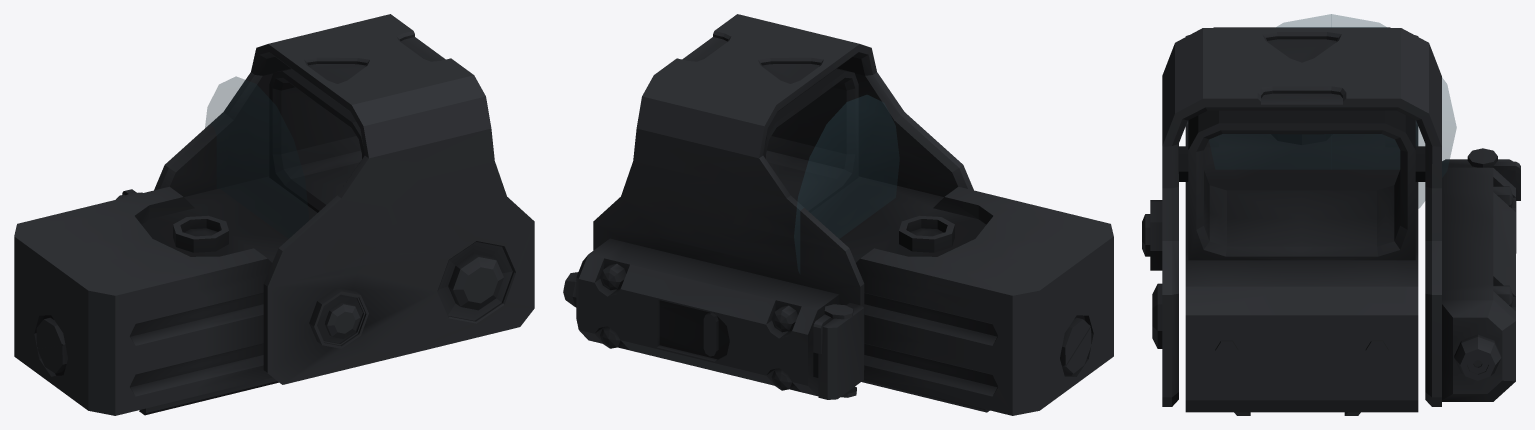
The model's file is k-att-reddot-lp5mikitholo.glb.
3 renders of one model, left to right at view 1: azimuth 30°, elevation 25°; view 2: azimuth 150°, elevation 25°; view 3: azimuth 270°, elevation 25°, orthographic. The views are drawn at different scales.
Visible parts, largest first — view 1: kit, lens; view 2: kit, lens; view 3: kit, lens.
Boxes of the visible parts, x1,y1,x2,y2 form: kit: (14, 14, 534, 415); lens: (205, 76, 308, 238); kit: (563, 14, 1113, 415); lens: (794, 95, 899, 273); kit: (1142, 27, 1520, 415); lens: (1209, 14, 1456, 208).
Size of the model in its own units: 0.093 by 0.0556 by 0.0588.
